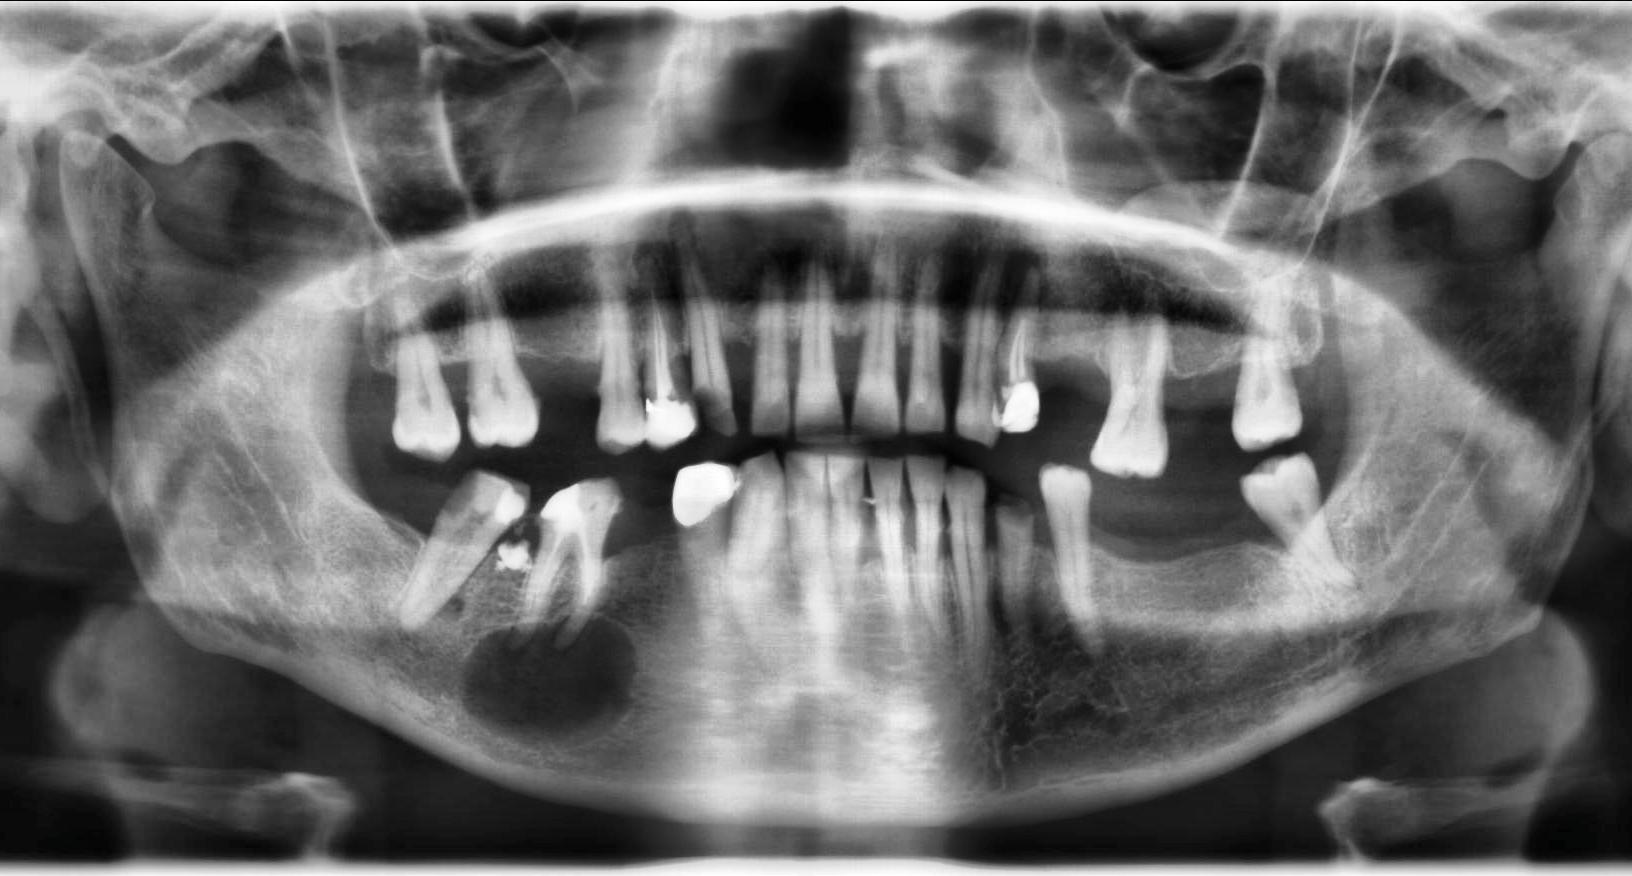radikuler: (459, 611, 641, 754)
